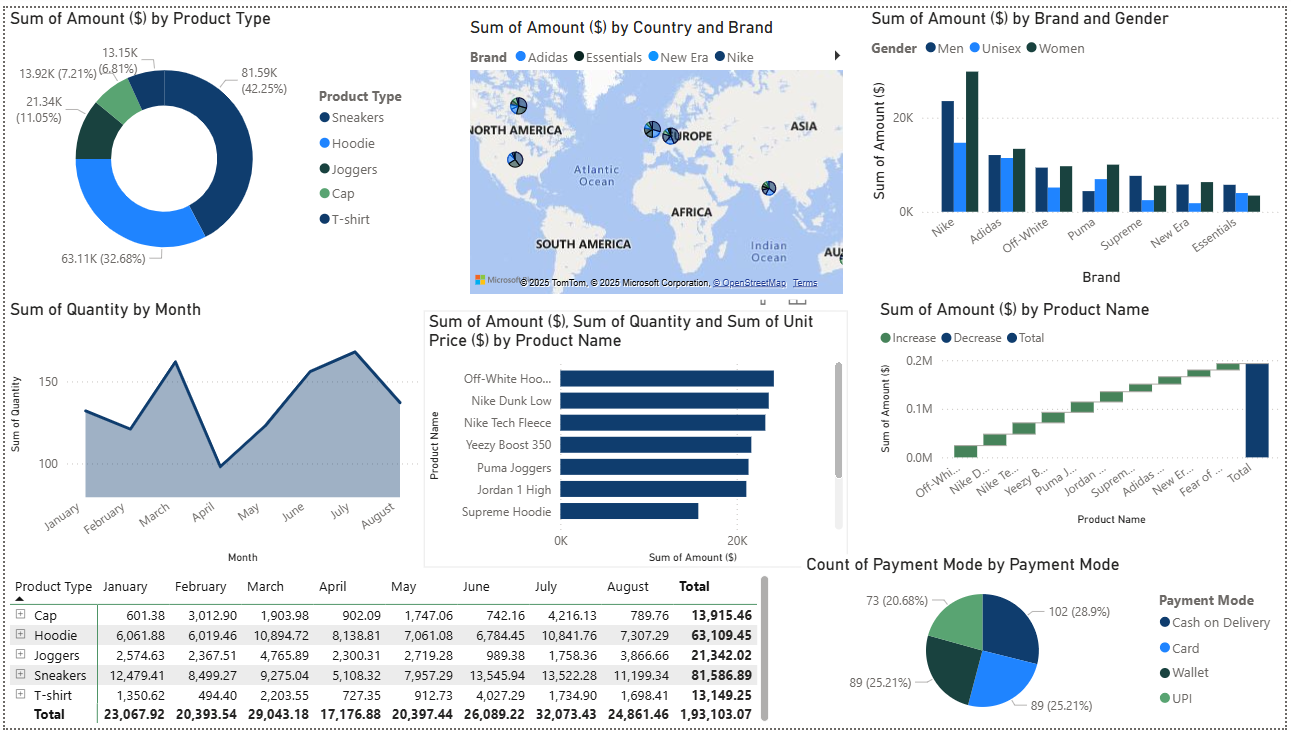

What the dashboard file says about the page in this screenshot:
{"tool":"powerbi","page":{"name":"Page 1","canvas":[1280,720],"ordinal":0},"visuals":[{"type":"areaChart","fields":{"Category":["sneakers.Date.Variation.Date Hierarchy.Month","sneakers.Date.Variation.Date Hierarchy.Day"],"Y":["Sum(sneakers.Quantity)"]},"box":[0,291,418.2,269],"z":1000},{"type":"donutChart","fields":{"Category":["sneakers.Product Type","sneakers.Brand","sneakers.Product Name"],"Y":["Sum(sneakers.Amount ($))"]},"box":[0,0,418.8,282.5],"z":2000},{"type":"waterfallChart","fields":{"Category":["sneakers.Product Name"],"Y":["Sum(sneakers.Amount ($))"]},"box":[869.4,291,410.9,231.1],"z":3000},{"type":"clusteredBarChart","fields":{"Category":["sneakers.Product Name"],"Y":["Sum(sneakers.Amount ($))"]},"box":[418.2,302,424.3,258],"z":4000},{"type":"clusteredColumnChart","fields":{"Category":["sneakers.Brand"],"Y":["Sum(sneakers.Amount ($))"],"Series":["sneakers.Gender"]},"box":[861.2,0,418.8,282.5],"z":5000},{"type":"pieChart","fields":{"Y":["CountNonNull(sneakers.Payment Mode)"],"Category":["sneakers.Payment Mode","sneakers.Amount ($)"]},"box":[796.2,546.2,483.8,173.8],"z":6000},{"type":"pivotTable","fields":{"Rows":["sneakers.Product Type","sneakers.Product Name"],"Columns":["sneakers.Date.Variation.Date Hierarchy.Month"],"Values":["Sum(sneakers.Amount ($))"]},"box":[0,562.5,769.2,157.7],"z":7000},{"type":"map","fields":{"Category":["sneakers.Country"],"Size":["Sum(sneakers.Amount ($))"],"Series":["sneakers.Brand"]},"box":[460,8.8,382.5,282.5],"z":7001}]}

Visuals, with their boxes in screenshot pixels (x1, y1, x2, y2), scaled from the page's 1280x720 canvas onto the 1291x732 screenshot:
areaChart - sneakers.Date.Variation.Date Hierarchy.Month x sneakers.Date.Variation.Date Hierarchy.Day: region(0, 296, 422, 569)
donutChart - sneakers.Product Type x sneakers.Brand: region(0, 0, 422, 287)
waterfallChart - sneakers.Product Name x Sum(sneakers.Amount ($)): region(877, 296, 1290, 531)
clusteredBarChart - sneakers.Product Name x Sum(sneakers.Amount ($)): region(422, 307, 850, 569)
clusteredColumnChart - sneakers.Brand x Sum(sneakers.Amount ($)): region(869, 0, 1290, 287)
pieChart - CountNonNull(sneakers.Payment Mode) x sneakers.Payment Mode: region(803, 555, 1290, 731)
pivotTable - sneakers.Product Type x sneakers.Product Name: region(0, 572, 776, 731)
map - sneakers.Country x Sum(sneakers.Amount ($)): region(464, 9, 850, 296)
